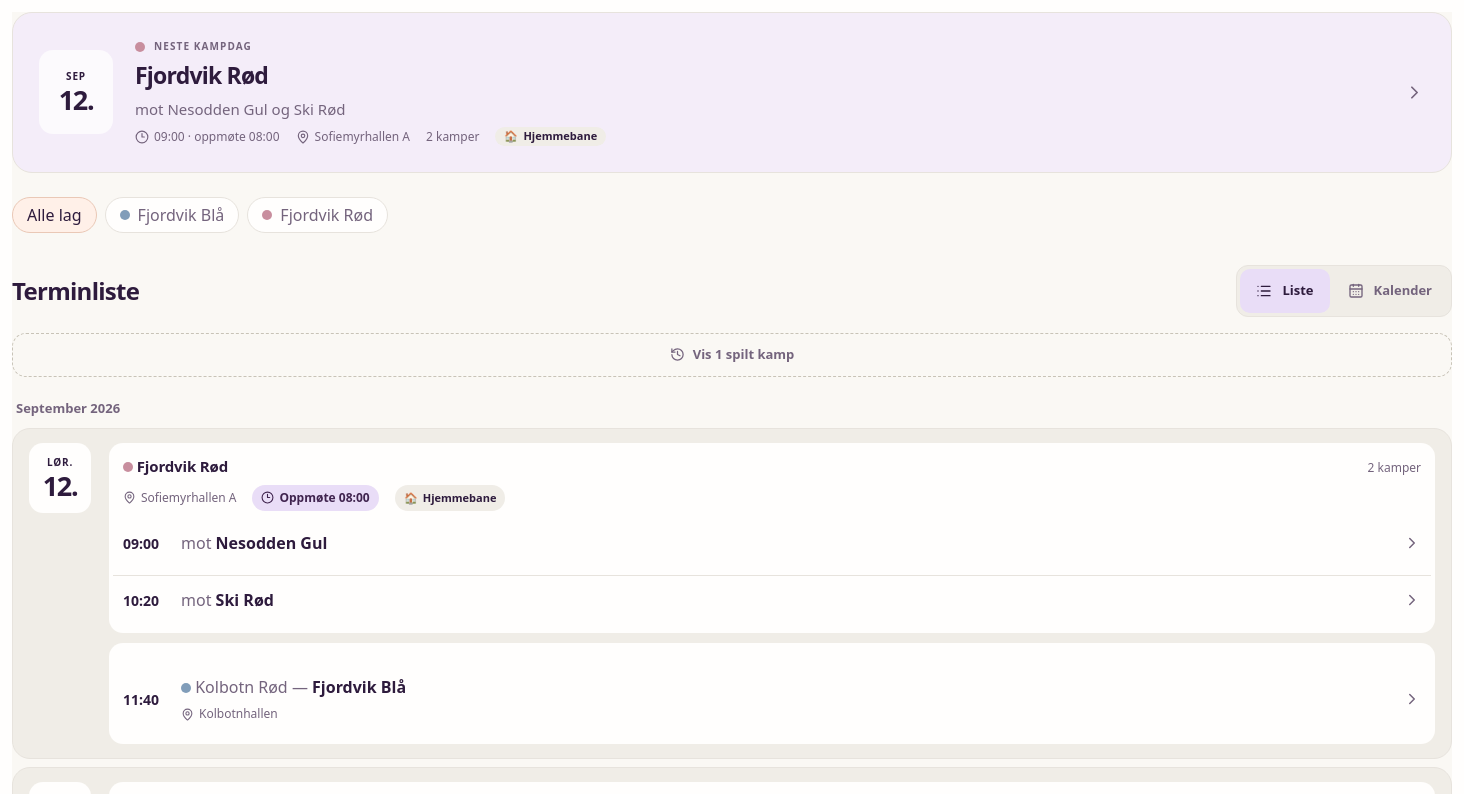
Test: MatchCalendar › pages between months
Click the button "Kalender". click: x=1390, y=291
box: [1332,269,1448,313]
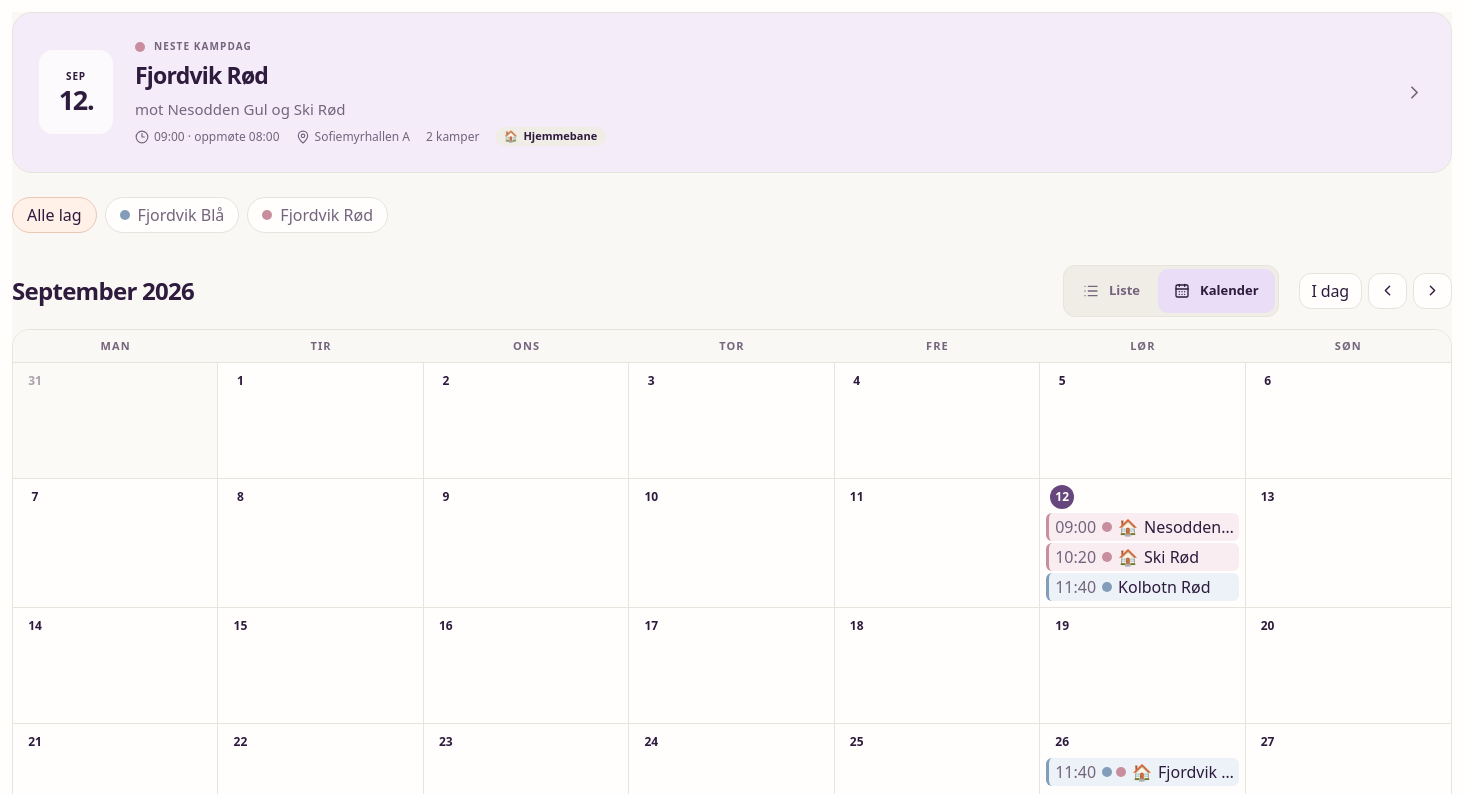
Click the button named "Forrige måned". click: x=1388, y=291
box: [1368,273,1407,309]
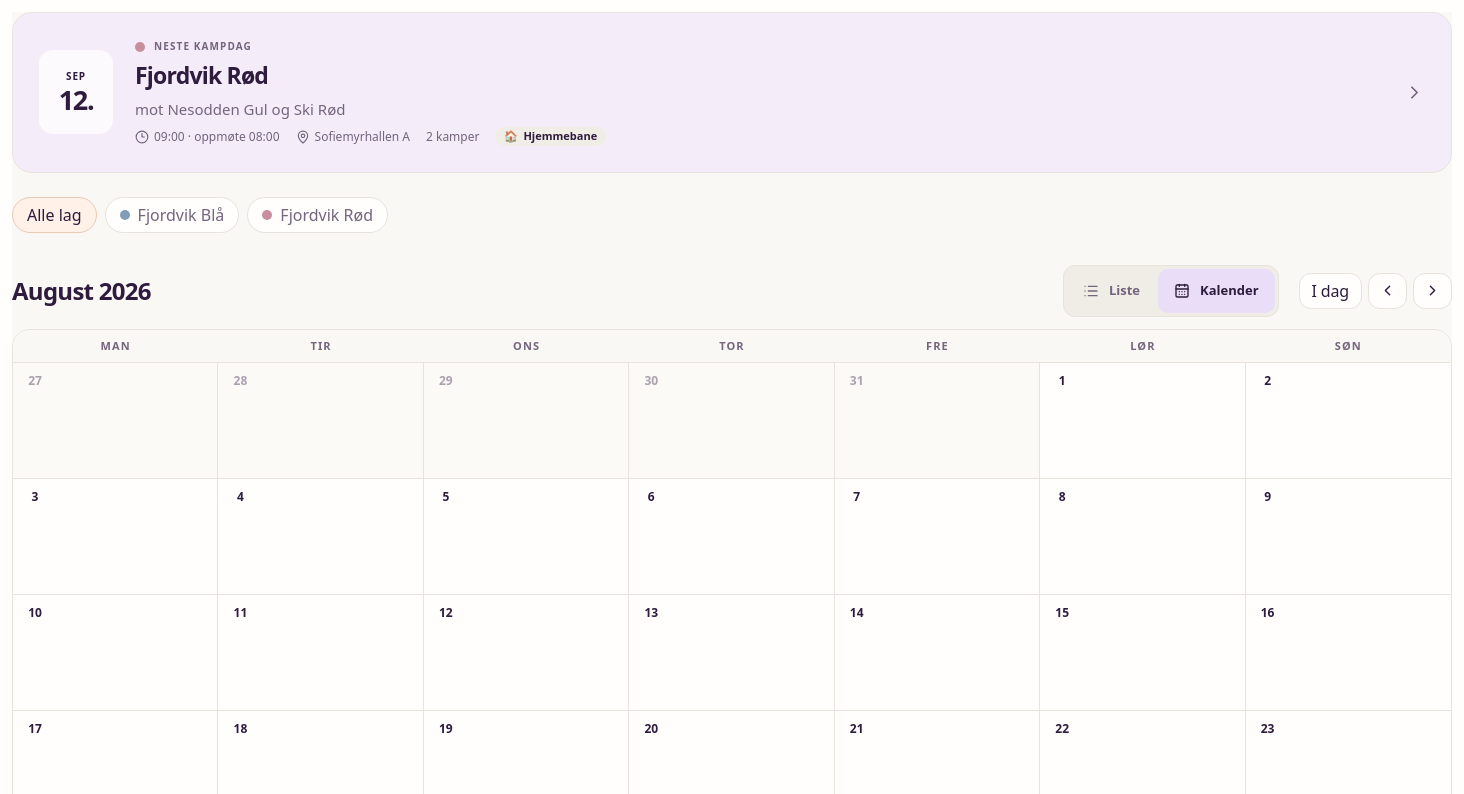
Result: the heading reads "august 2026" at [12,274,151,307]
Click the button "I dag". click: x=1330, y=291
box: [1298,273,1362,309]
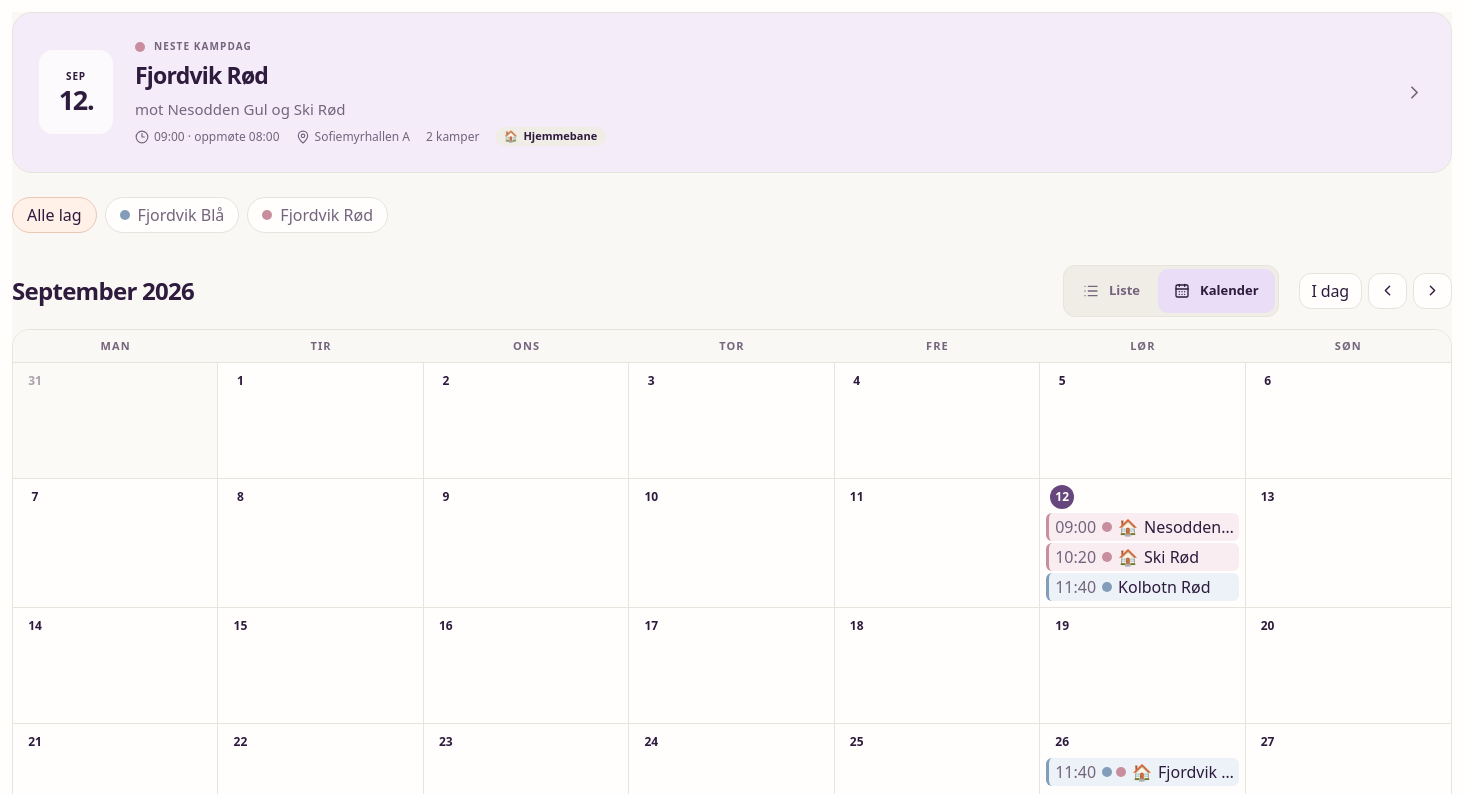
Result: the heading reads "september 2026" at [12,274,194,307]
